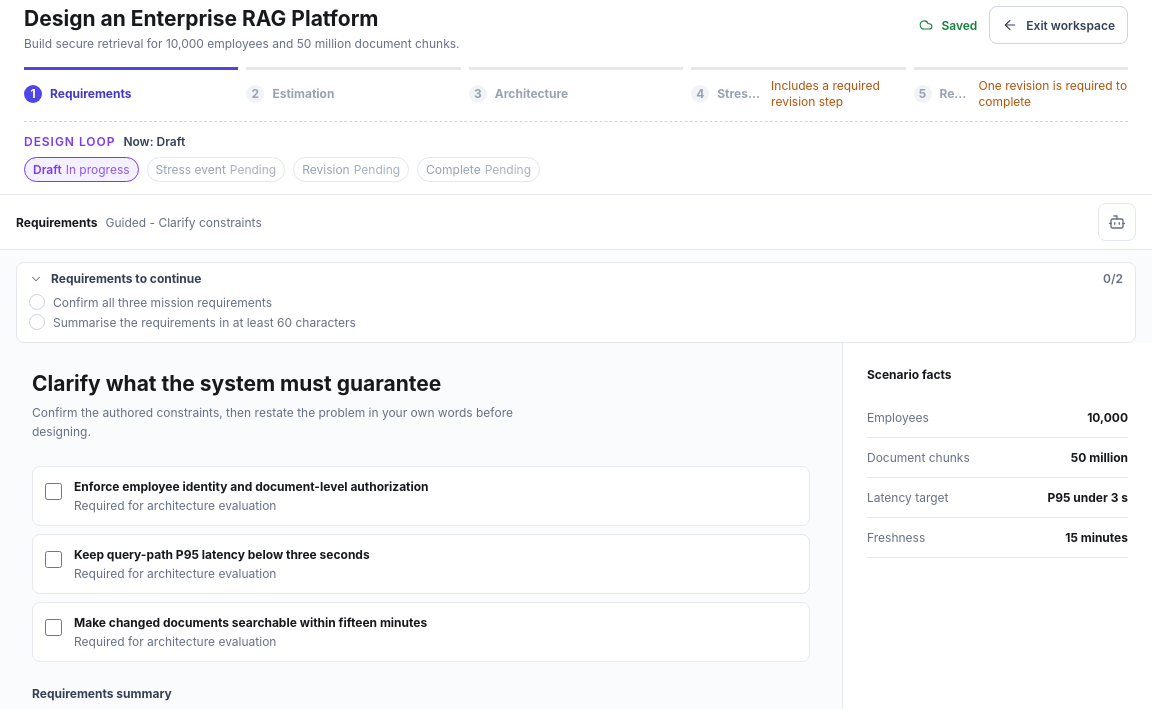
Test: MissionWorkspace gate checklist › lists the stage requirements upfront and checks them off as the attempt changes
The image size is (1152, 709).
Check: the list item "Confirm all three mission requirements" is shown, box [29, 294, 272, 310]
Check: the list item "Summarise the requirements in at least 60 characters" is shown, box [29, 314, 356, 330]
Click the checkbox labelled "Enforce employee identity" at [54, 491], box [45, 483, 62, 500]
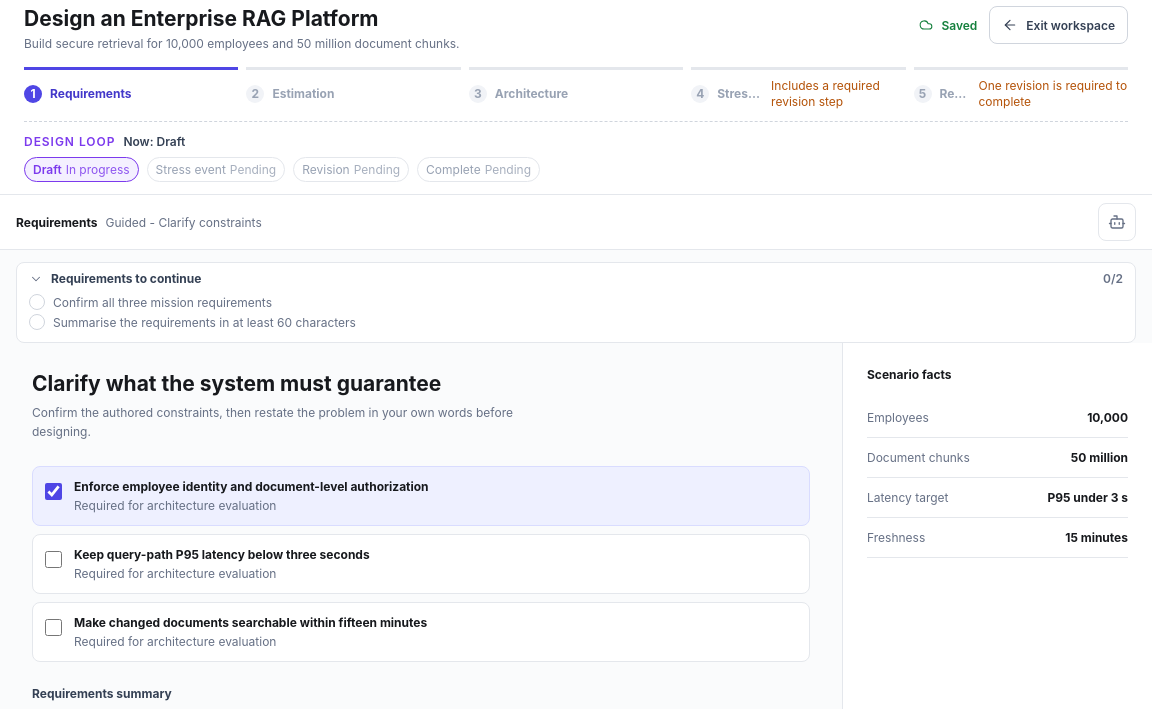
Click the checkbox labelled "Keep query-path P95 latency" at [54, 559], box [45, 551, 62, 568]
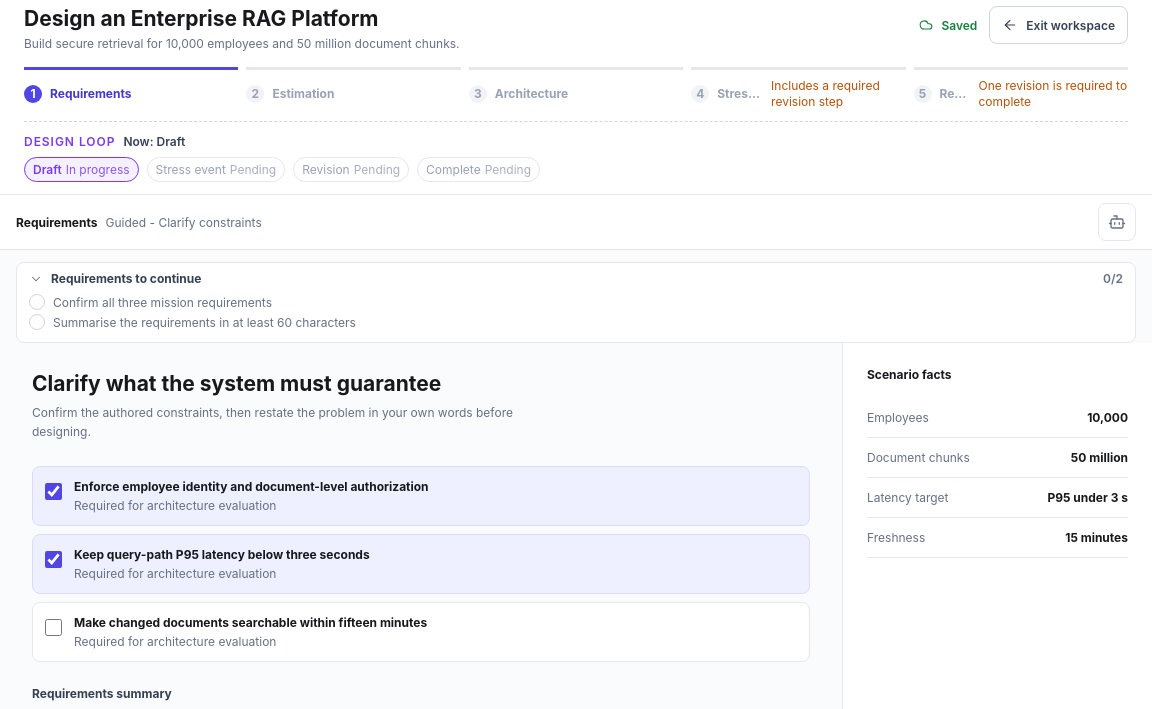
Click the checkbox labelled "Make changed documents searchable" at [54, 627], box [45, 619, 62, 636]
(page scrolled)
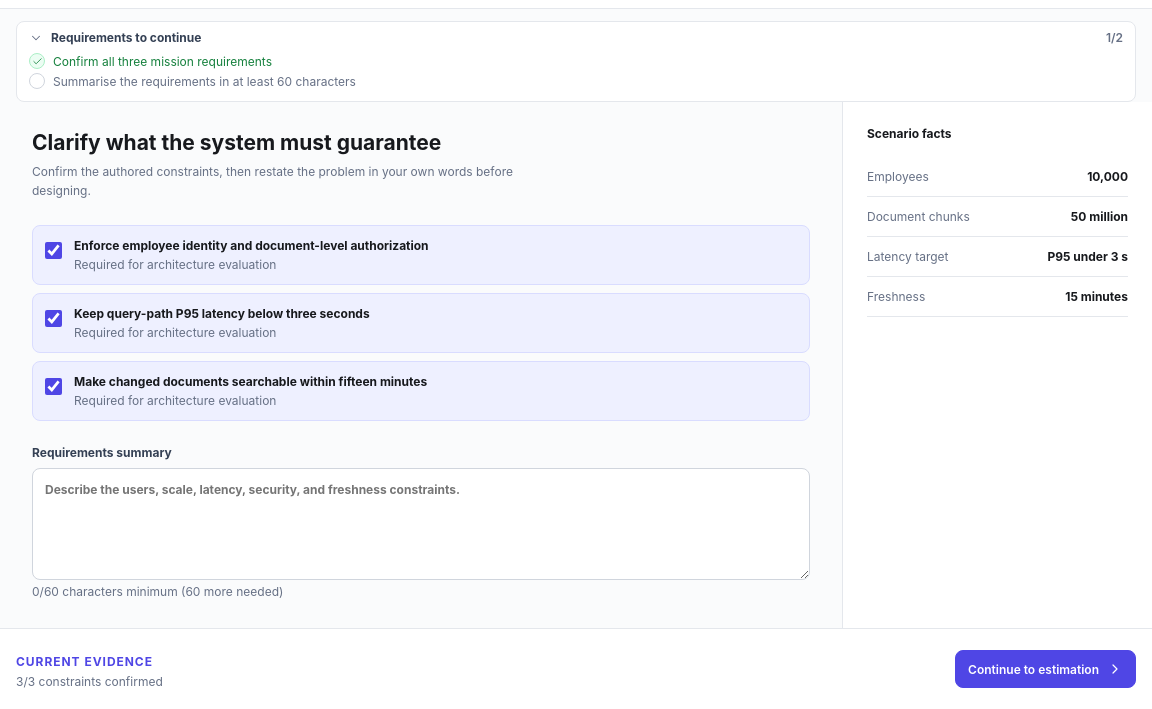
Replace the text in the text box with placeholder "Describe the users, scale, latency, security" with "Ten thousand employees need sub-3-second grounded answers with fifteen-minute freshness guarantees." at [421, 524], box [32, 468, 810, 580]
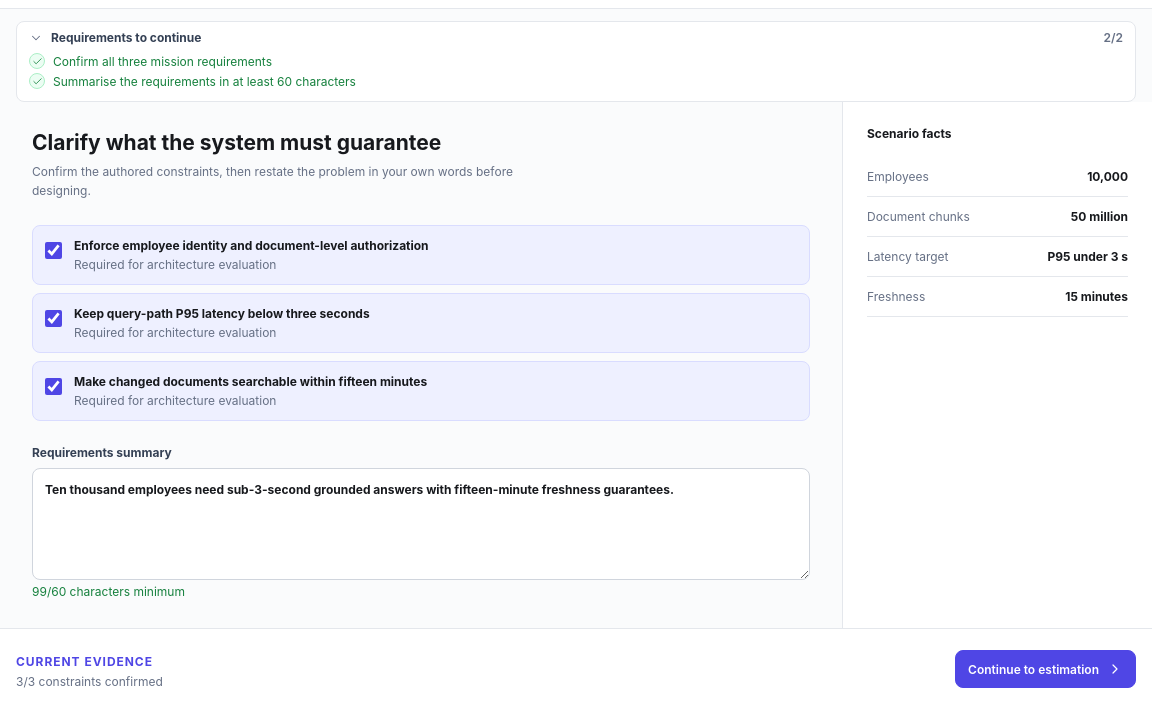
Check: the text "2/2" is shown, box [1104, 30, 1123, 45]
